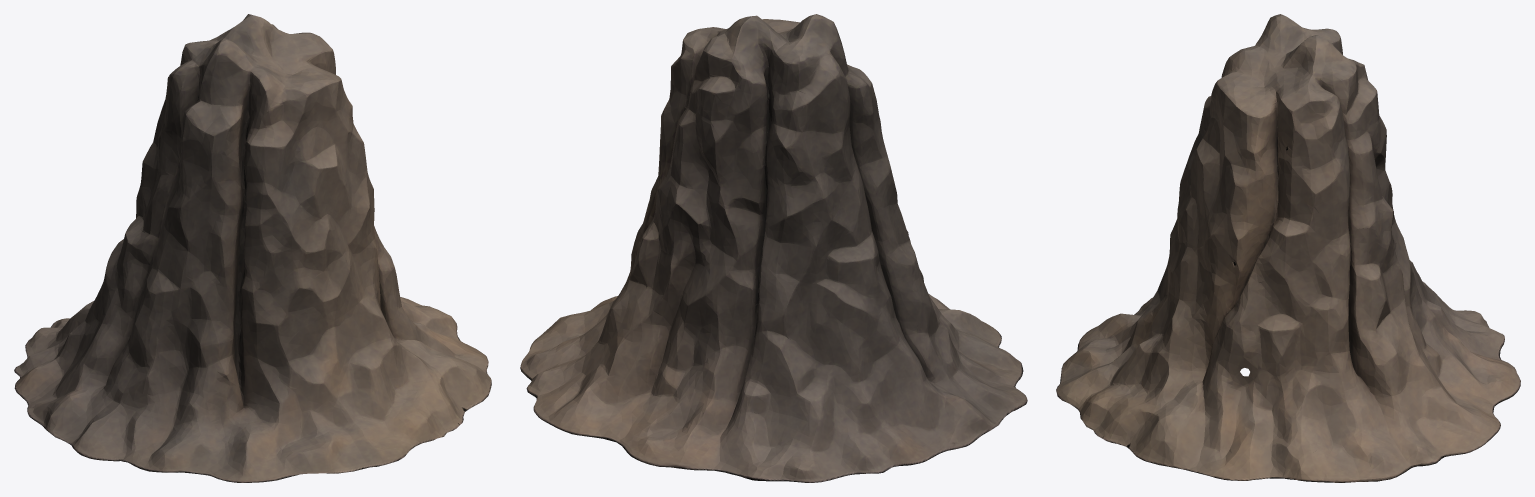
The picture shows the model from 3 angles, left to right: view 1: azimuth 30°, elevation 25°; view 2: azimuth 150°, elevation 25°; view 3: azimuth 270°, elevation 25°; orthographic projection. The views are drawn at different scales.
Parts seen in each view (by area): view 1: world; view 2: world; view 3: world.
Part boxes in pixels (box(x1,y1,x2,y2)): world: box(14, 14, 491, 482); world: box(520, 14, 1027, 482); world: box(1056, 14, 1520, 482).
Size of the model in its own units: 1 by 0.8175 by 0.9719.
Materials: 1 (1 with a texture image).
